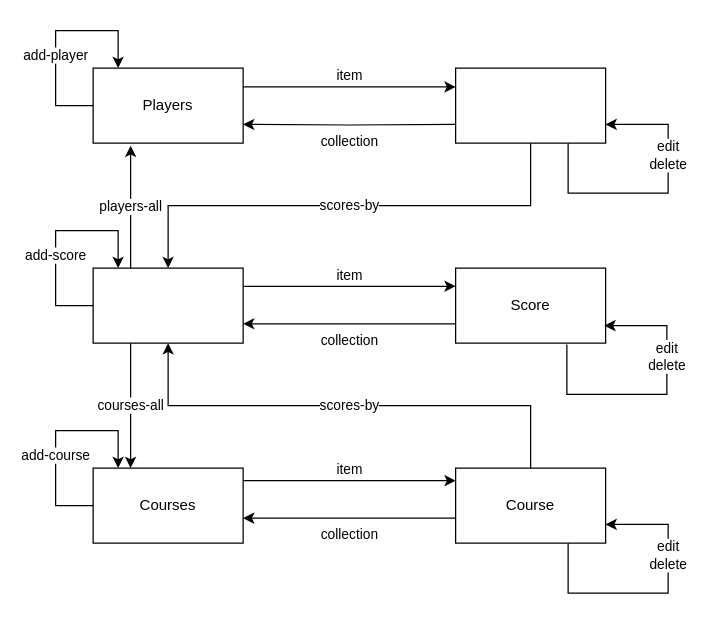
Image size: 709x625. Some labels were removed from this diagram. The centre of each missing label's shape, as x and y in pixels:
"Player" belongs at point (530, 105).
"Scores" belongs at point (167, 305).
